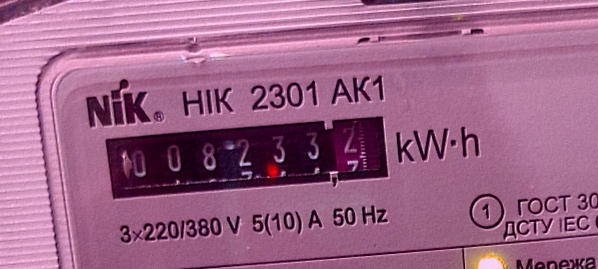0: (127, 147, 150, 180), (163, 143, 184, 175)
2: (232, 136, 255, 170), (340, 124, 360, 157)
3: (269, 133, 289, 166), (304, 129, 323, 162)
8: (199, 140, 219, 173)
screen: (94, 104, 401, 211)
